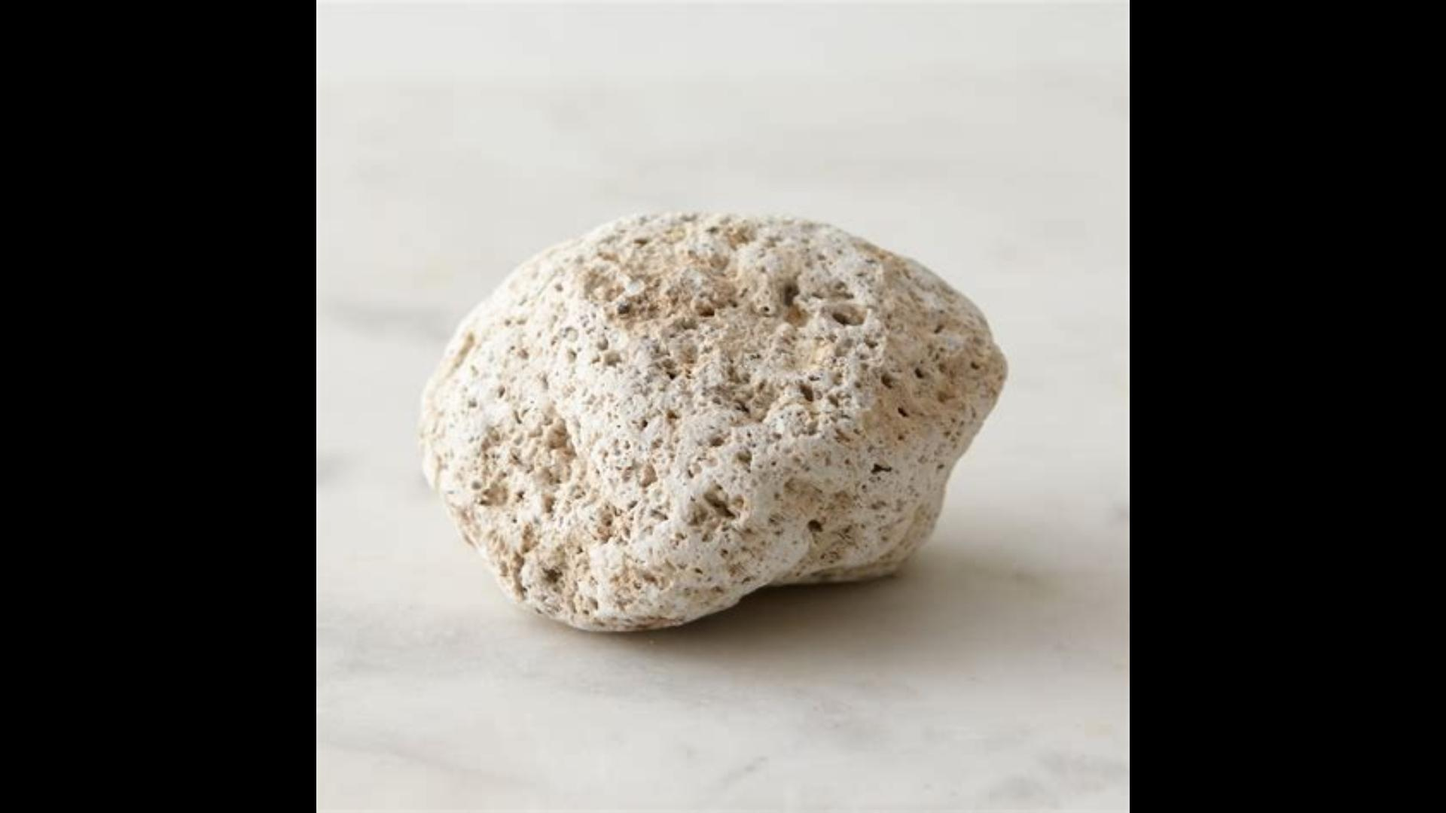rock: (424, 220, 1004, 626)
